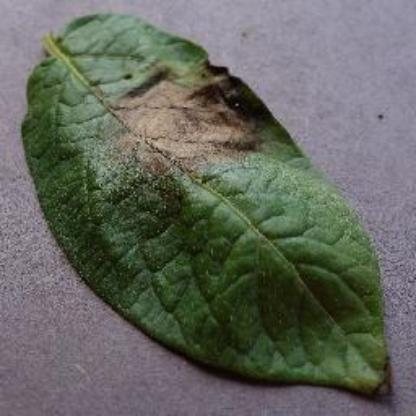Late-Blight: (18, 6, 398, 406)
